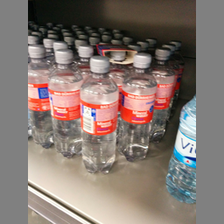water: (82, 56, 120, 175), (120, 52, 158, 161), (49, 48, 84, 159), (165, 93, 196, 203), (28, 44, 53, 151)
